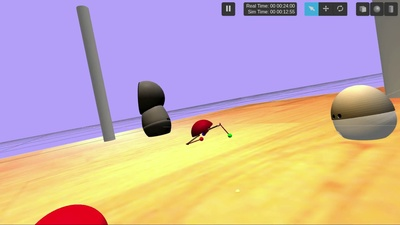mira_robot: (331, 85, 397, 140)
